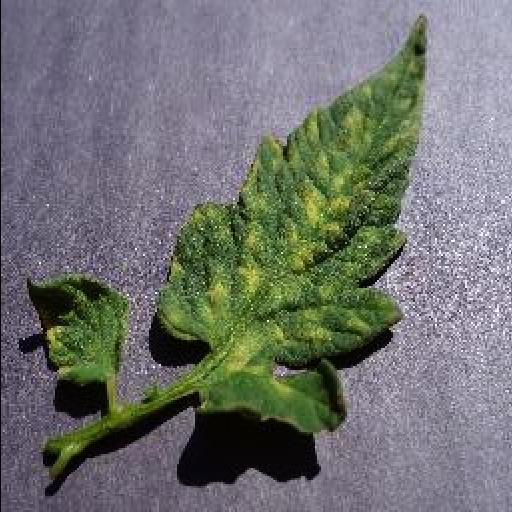disease_tomato: (150, 16, 432, 436)
